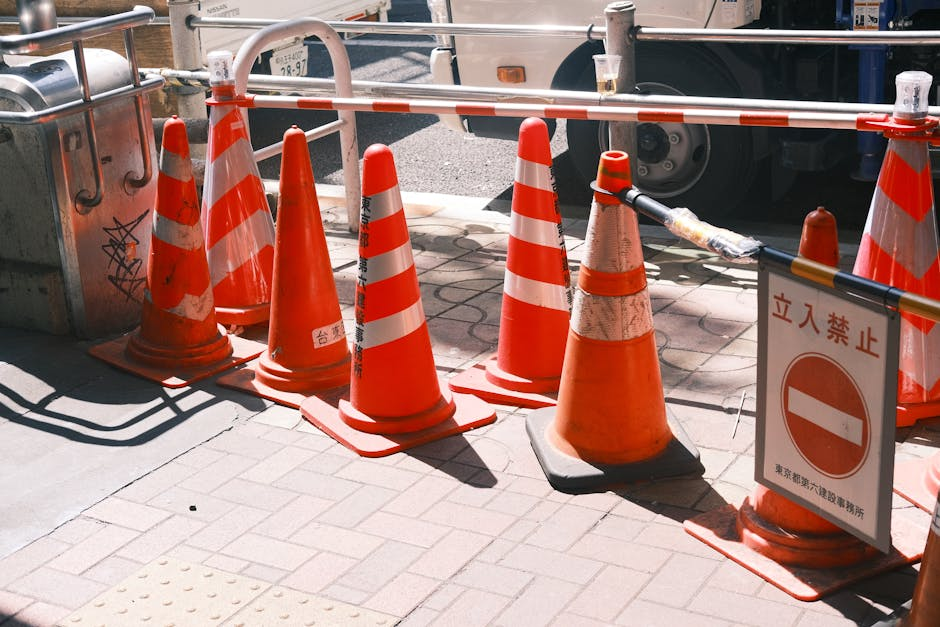traffic_cone: (683, 205, 922, 602), (524, 149, 706, 494), (299, 142, 497, 458), (87, 113, 265, 388), (215, 124, 353, 410), (448, 116, 573, 409), (846, 70, 939, 428), (199, 50, 277, 334)
